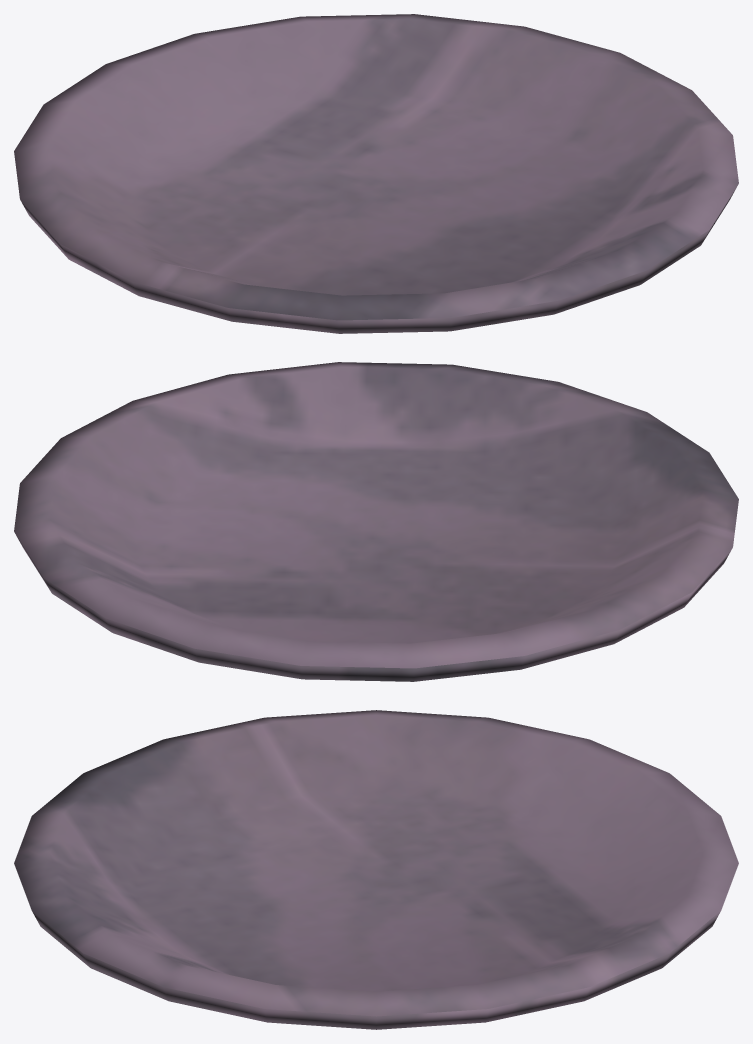
Rendered from plate_horror.glb.
3 renders of one model, top to bottom at view 1: azimuth 30°, elevation 25°; view 2: azimuth 150°, elevation 25°; view 3: azimuth 270°, elevation 25°, orthographic.
Visible parts, largest first — view 1: plate1_geo1; view 2: plate1_geo1; view 3: plate1_geo1.
Part boxes in pixels (x1,y1,x2,y2): plate1_geo1: [14, 14, 738, 333]; plate1_geo1: [14, 362, 738, 681]; plate1_geo1: [14, 710, 738, 1029].
Size of the model in its own units: 0.3129 by 0.03 by 0.3129.
Materials: 1 (1 with a texture image).
